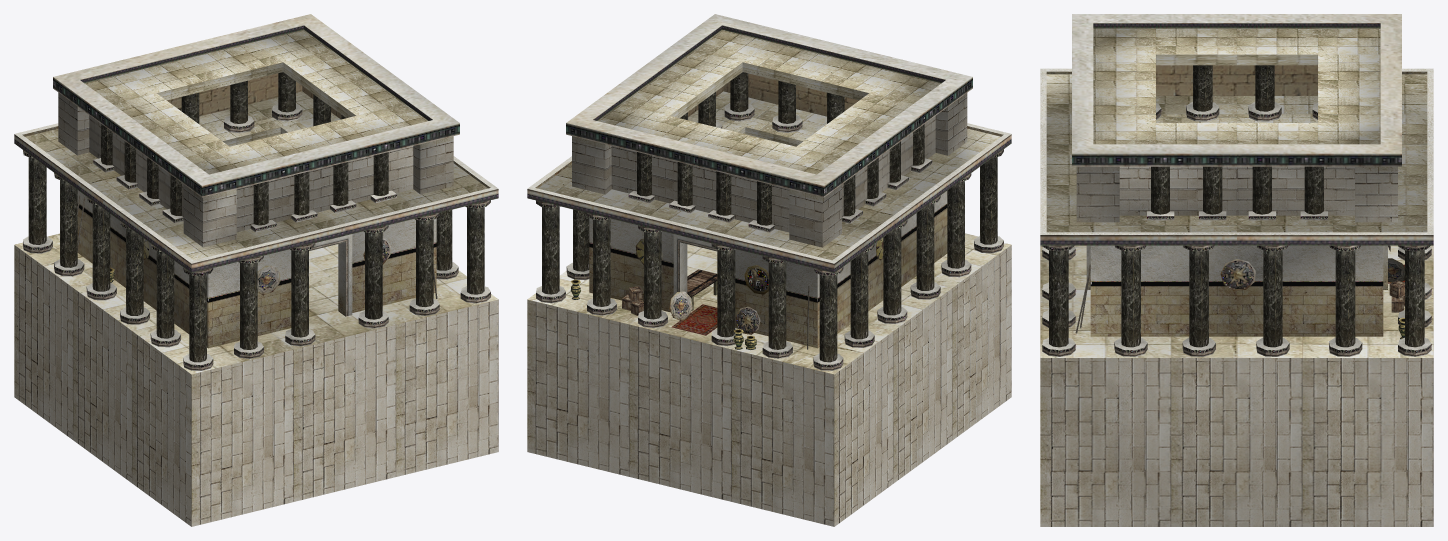
Rendered from embassy.glb.
3 views of the same model, side by side, from view 1: azimuth 30°, elevation 25°; view 2: azimuth 150°, elevation 25°; view 3: azimuth 270°, elevation 25° (orthographic). The views are drawn at different scales.
Parts seen in each view (by area): view 1: embassy_part0; view 2: embassy_part0; view 3: embassy_part0.
Boxes of the visible parts, left/top/right/bottom form: embassy_part0: left=14, top=14, right=498, bottom=526; embassy_part0: left=527, top=14, right=1011, bottom=526; embassy_part0: left=1040, top=14, right=1433, bottom=526.
Size of the model in its own units: 3.5 by 3.53 by 3.5.
Materials: 1 (1 with a texture image).
